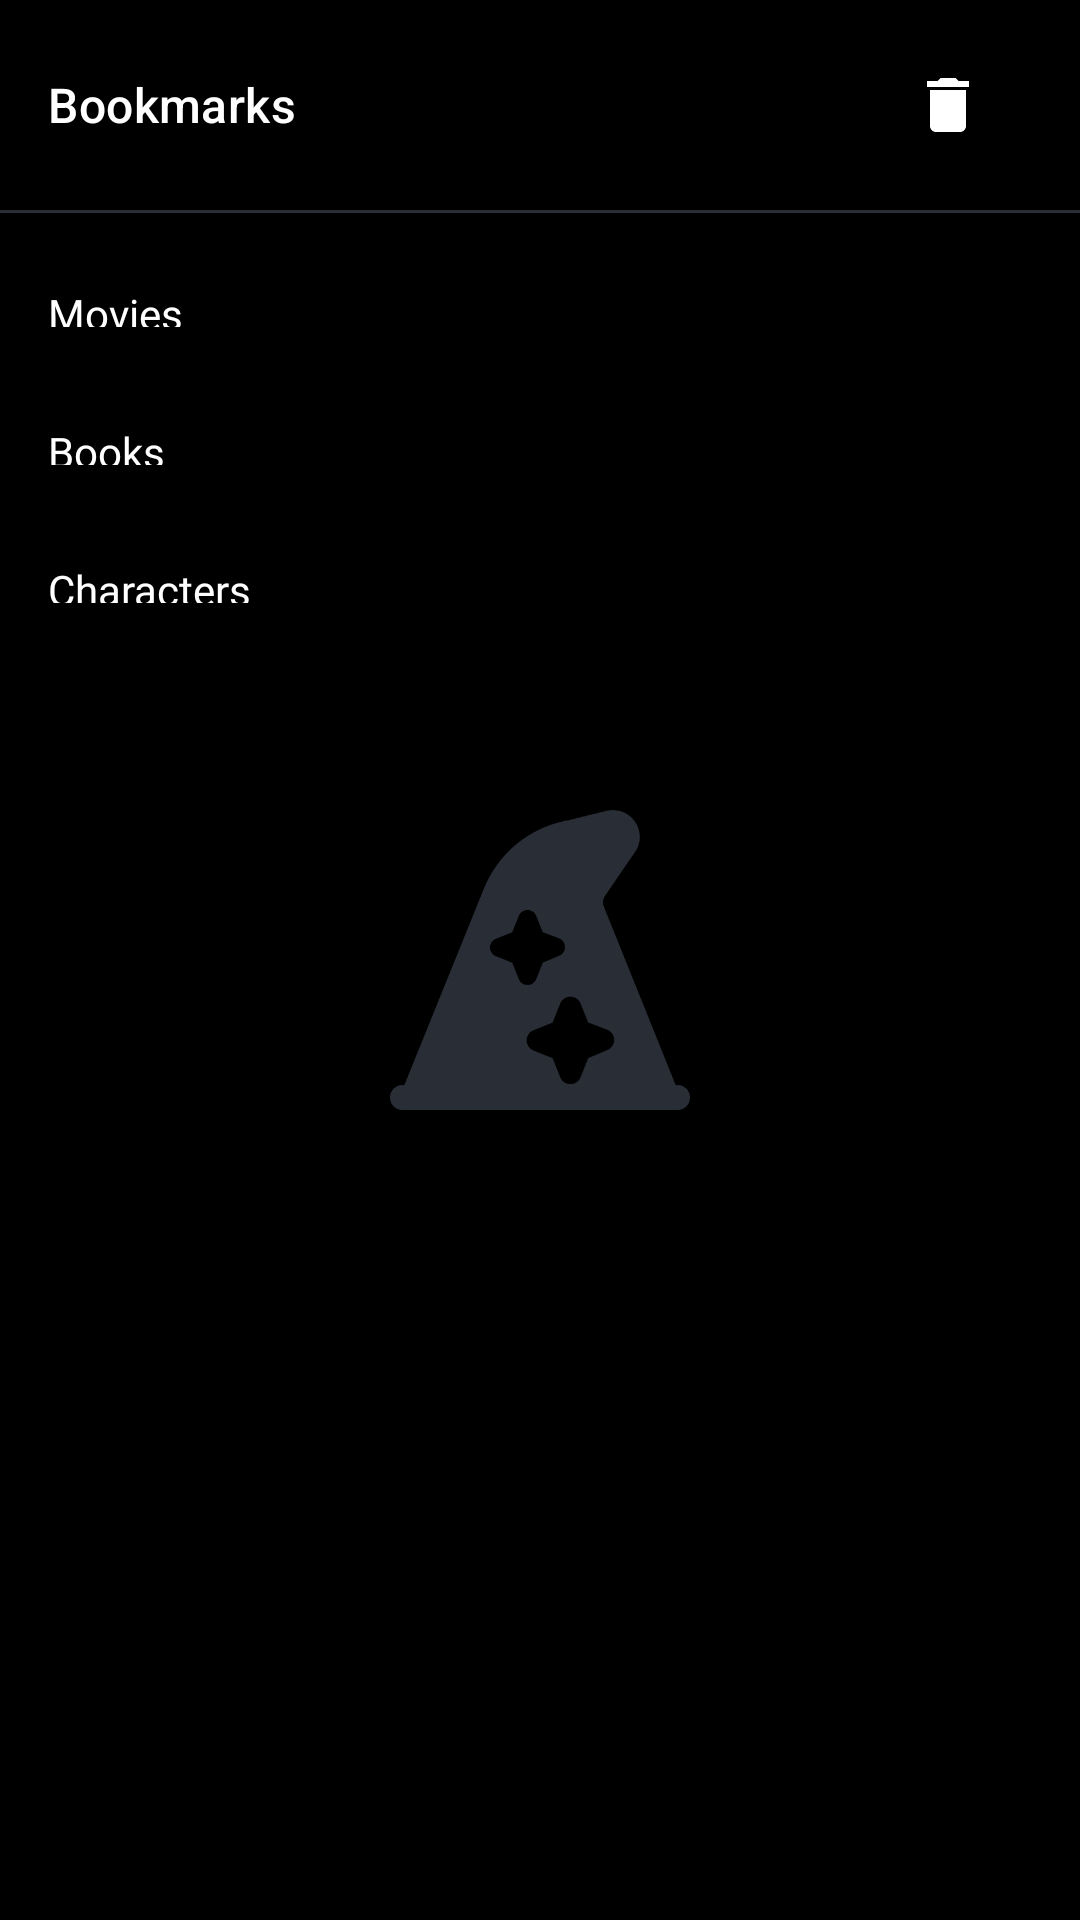

Locate icon controls on the screen. Image size 1080x1920, boxes as Rect(x1, y1, x2, y2).
hatwizard: Rect(390, 810, 690, 1110)
